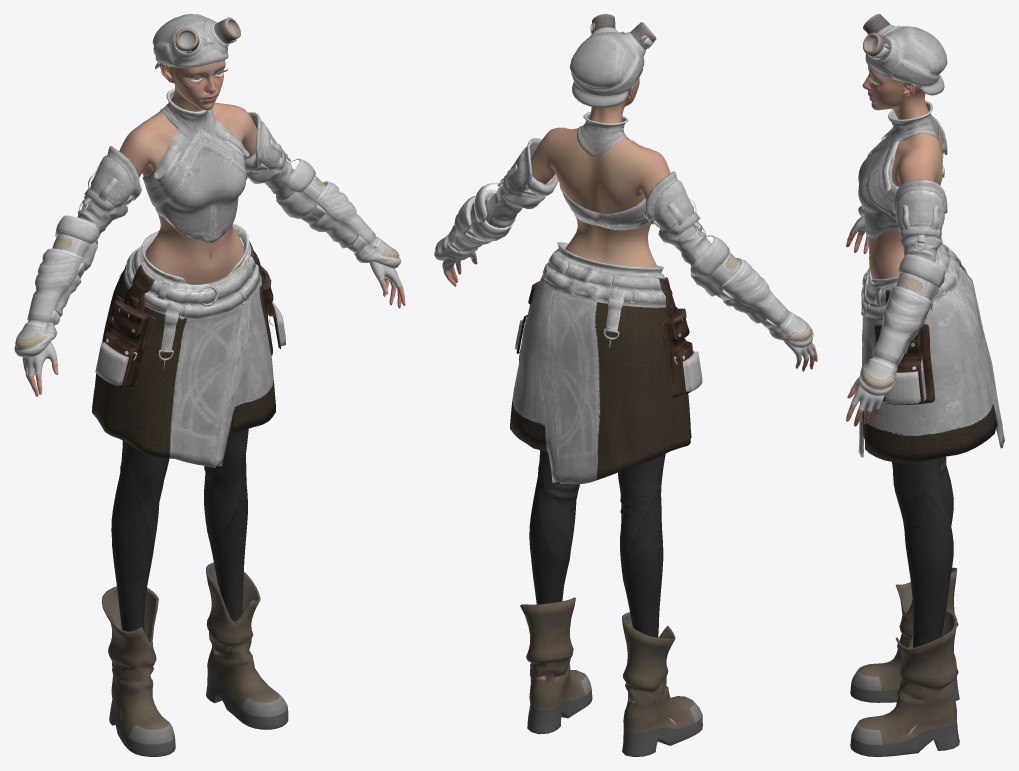
3 views of the same model, side by side, from view 1: azimuth 30°, elevation 25°; view 2: azimuth 150°, elevation 25°; view 3: azimuth 270°, elevation 25° (orthographic). The views are drawn at different scales.
Parts seen in each view (by area): view 1: GF_Creion_01_Body, GF_Creion_01_Boots, GF_Creion_01_Pants, GF_Creion_01_Glove, GF_Creion_01_Helmet, GF_BaseHead; view 2: GF_Creion_01_Body, GF_Creion_01_Boots, GF_Creion_01_Pants, GF_Creion_01_Glove, GF_Creion_01_Helmet, GF_BaseHead; view 3: GF_Creion_01_Body, GF_Creion_01_Boots, GF_Creion_01_Pants, GF_Creion_01_Glove, GF_Creion_01_Helmet, GF_BaseHead.
Boxes of the visible parts, bbox=[...] form: GF_Creion_01_Body: bbox=[25, 88, 405, 467]; GF_Creion_01_Boots: bbox=[101, 562, 288, 756]; GF_Creion_01_Pants: bbox=[111, 245, 248, 718]; GF_Creion_01_Glove: bbox=[14, 158, 402, 376]; GF_Creion_01_Helmet: bbox=[152, 14, 240, 69]; GF_BaseHead: bbox=[159, 60, 227, 111]; GF_Creion_01_Body: bbox=[444, 112, 817, 484]; GF_Creion_01_Boots: bbox=[520, 597, 702, 756]; GF_Creion_01_Pants: bbox=[529, 450, 676, 724]; GF_Creion_01_Glove: bbox=[434, 182, 814, 360]; GF_Creion_01_Helmet: bbox=[569, 14, 656, 107]; GF_BaseHead: bbox=[588, 77, 639, 123]; GF_Creion_01_Body: bbox=[846, 100, 1004, 463]; GF_Creion_01_Boots: bbox=[850, 567, 959, 756]; GF_Creion_01_Pants: bbox=[892, 456, 953, 735]; GF_Creion_01_Glove: bbox=[851, 165, 944, 410]; GF_Creion_01_Helmet: bbox=[863, 14, 947, 95]; GF_BaseHead: bbox=[862, 65, 928, 119].
Size of the model in its own units: 1.05 by 1.87 by 0.3858.
8 materials, 7 textured.
